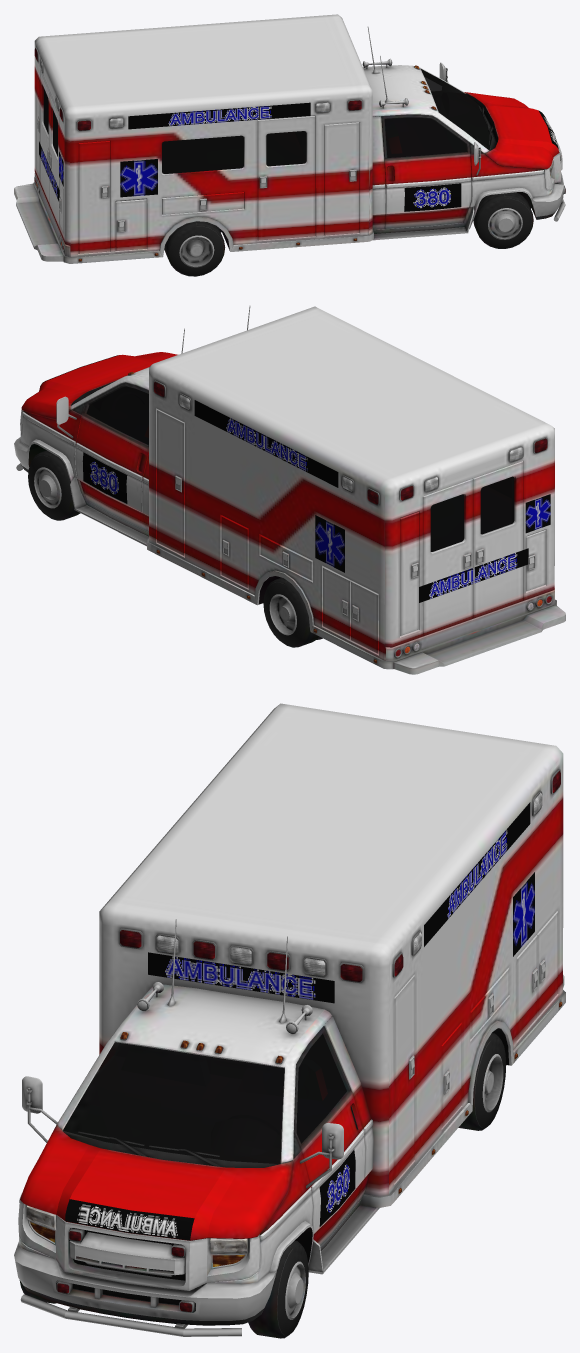
File: veh-ambulancia.glb
The picture shows the model from 3 angles, top to bottom: view 1: azimuth 30°, elevation 25°; view 2: azimuth 150°, elevation 25°; view 3: azimuth 270°, elevation 25°; orthographic projection. The views are drawn at different scales.
Visible parts, largest first — view 1: ambulance_ambulance_0, ambulance_glass_tex_0, ambulance_decals_tex_0, ambulance_optics_tex_0; view 2: ambulance_ambulance_0, ambulance_decals_tex_0, ambulance_glass_tex_0, ambulance_optics_tex_0; view 3: ambulance_ambulance_0, ambulance_glass_tex_0, ambulance_decals_tex_0, ambulance_optics_tex_0.
Boxes of the visible parts, bbox=[...] form: ambulance_ambulance_0: bbox=[14, 14, 565, 276]; ambulance_glass_tex_0: bbox=[43, 69, 492, 173]; ambulance_decals_tex_0: bbox=[39, 102, 558, 211]; ambulance_optics_tex_0: bbox=[34, 48, 565, 261]; ambulance_ambulance_0: bbox=[14, 305, 565, 674]; ambulance_decals_tex_0: bbox=[40, 355, 550, 602]; ambulance_glass_tex_0: bbox=[85, 386, 514, 551]; ambulance_optics_tex_0: bbox=[128, 372, 551, 663]; ambulance_ambulance_0: bbox=[14, 703, 565, 1338]; ambulance_glass_tex_0: bbox=[63, 1033, 346, 1164]; ambulance_decals_tex_0: bbox=[65, 802, 534, 1240]; ambulance_optics_tex_0: bbox=[26, 771, 562, 1312].
Bounding box in the file's own units: 6.96 × 2.57 × 4.17.
Materials: 4 (4 with a texture image).
